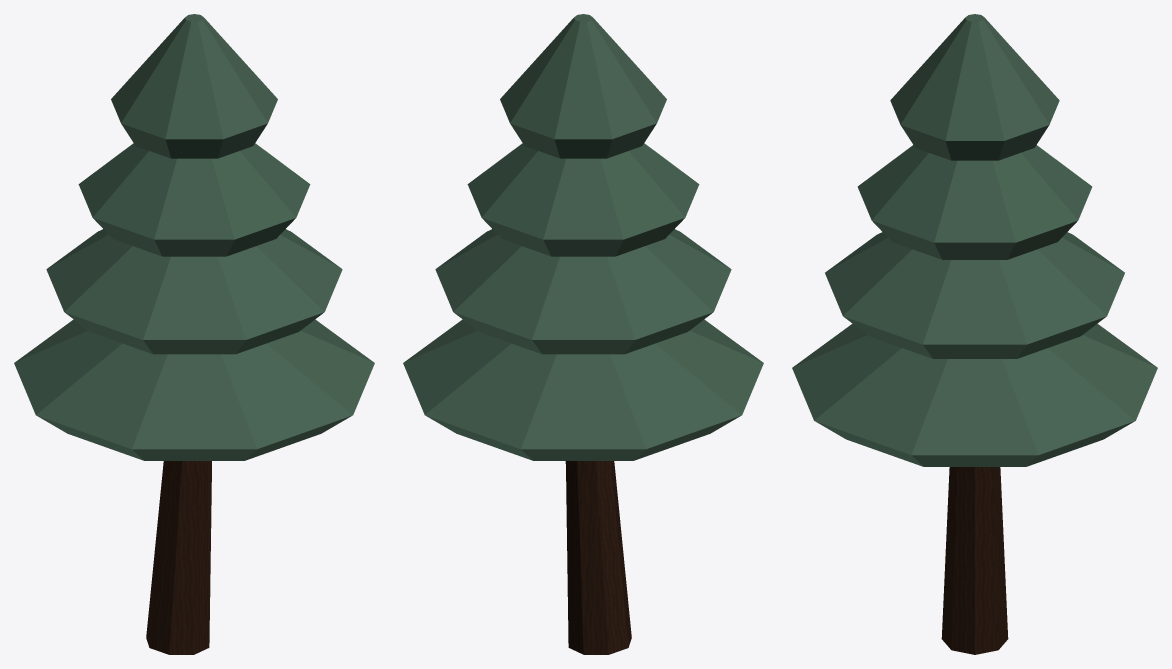
Rendered from nature_pine.glb.
3 renders of one model, left to right at view 1: azimuth 30°, elevation 25°; view 2: azimuth 150°, elevation 25°; view 3: azimuth 270°, elevation 25°, orthographic.
Parts seen in each view (by area): view 1: needle_tier, needle_tier.001, needle_tier.002, needle_tier.003, pine_trunk; view 2: needle_tier, needle_tier.001, needle_tier.002, needle_tier.003, pine_trunk; view 3: needle_tier, needle_tier.001, needle_tier.002, needle_tier.003, pine_trunk.
Boxes of the visible parts, bbox=[...] form: needle_tier: bbox=[14, 319, 374, 460]; needle_tier.001: bbox=[46, 229, 342, 354]; needle_tier.002: bbox=[78, 143, 310, 256]; needle_tier.003: bbox=[111, 14, 277, 158]; pine_trunk: bbox=[146, 461, 211, 654]; needle_tier: bbox=[403, 319, 763, 460]; needle_tier.001: bbox=[435, 229, 731, 354]; needle_tier.002: bbox=[467, 143, 699, 256]; needle_tier.003: bbox=[500, 14, 666, 158]; pine_trunk: bbox=[565, 461, 631, 654]; needle_tier: bbox=[792, 324, 1157, 466]; needle_tier.001: bbox=[825, 232, 1124, 358]; needle_tier.002: bbox=[857, 145, 1092, 259]; needle_tier.003: bbox=[890, 14, 1059, 160]; pine_trunk: bbox=[941, 467, 1008, 654].
Size of the model in its own units: 1.84 by 3.56 by 1.87.
2 materials, 1 textured.
